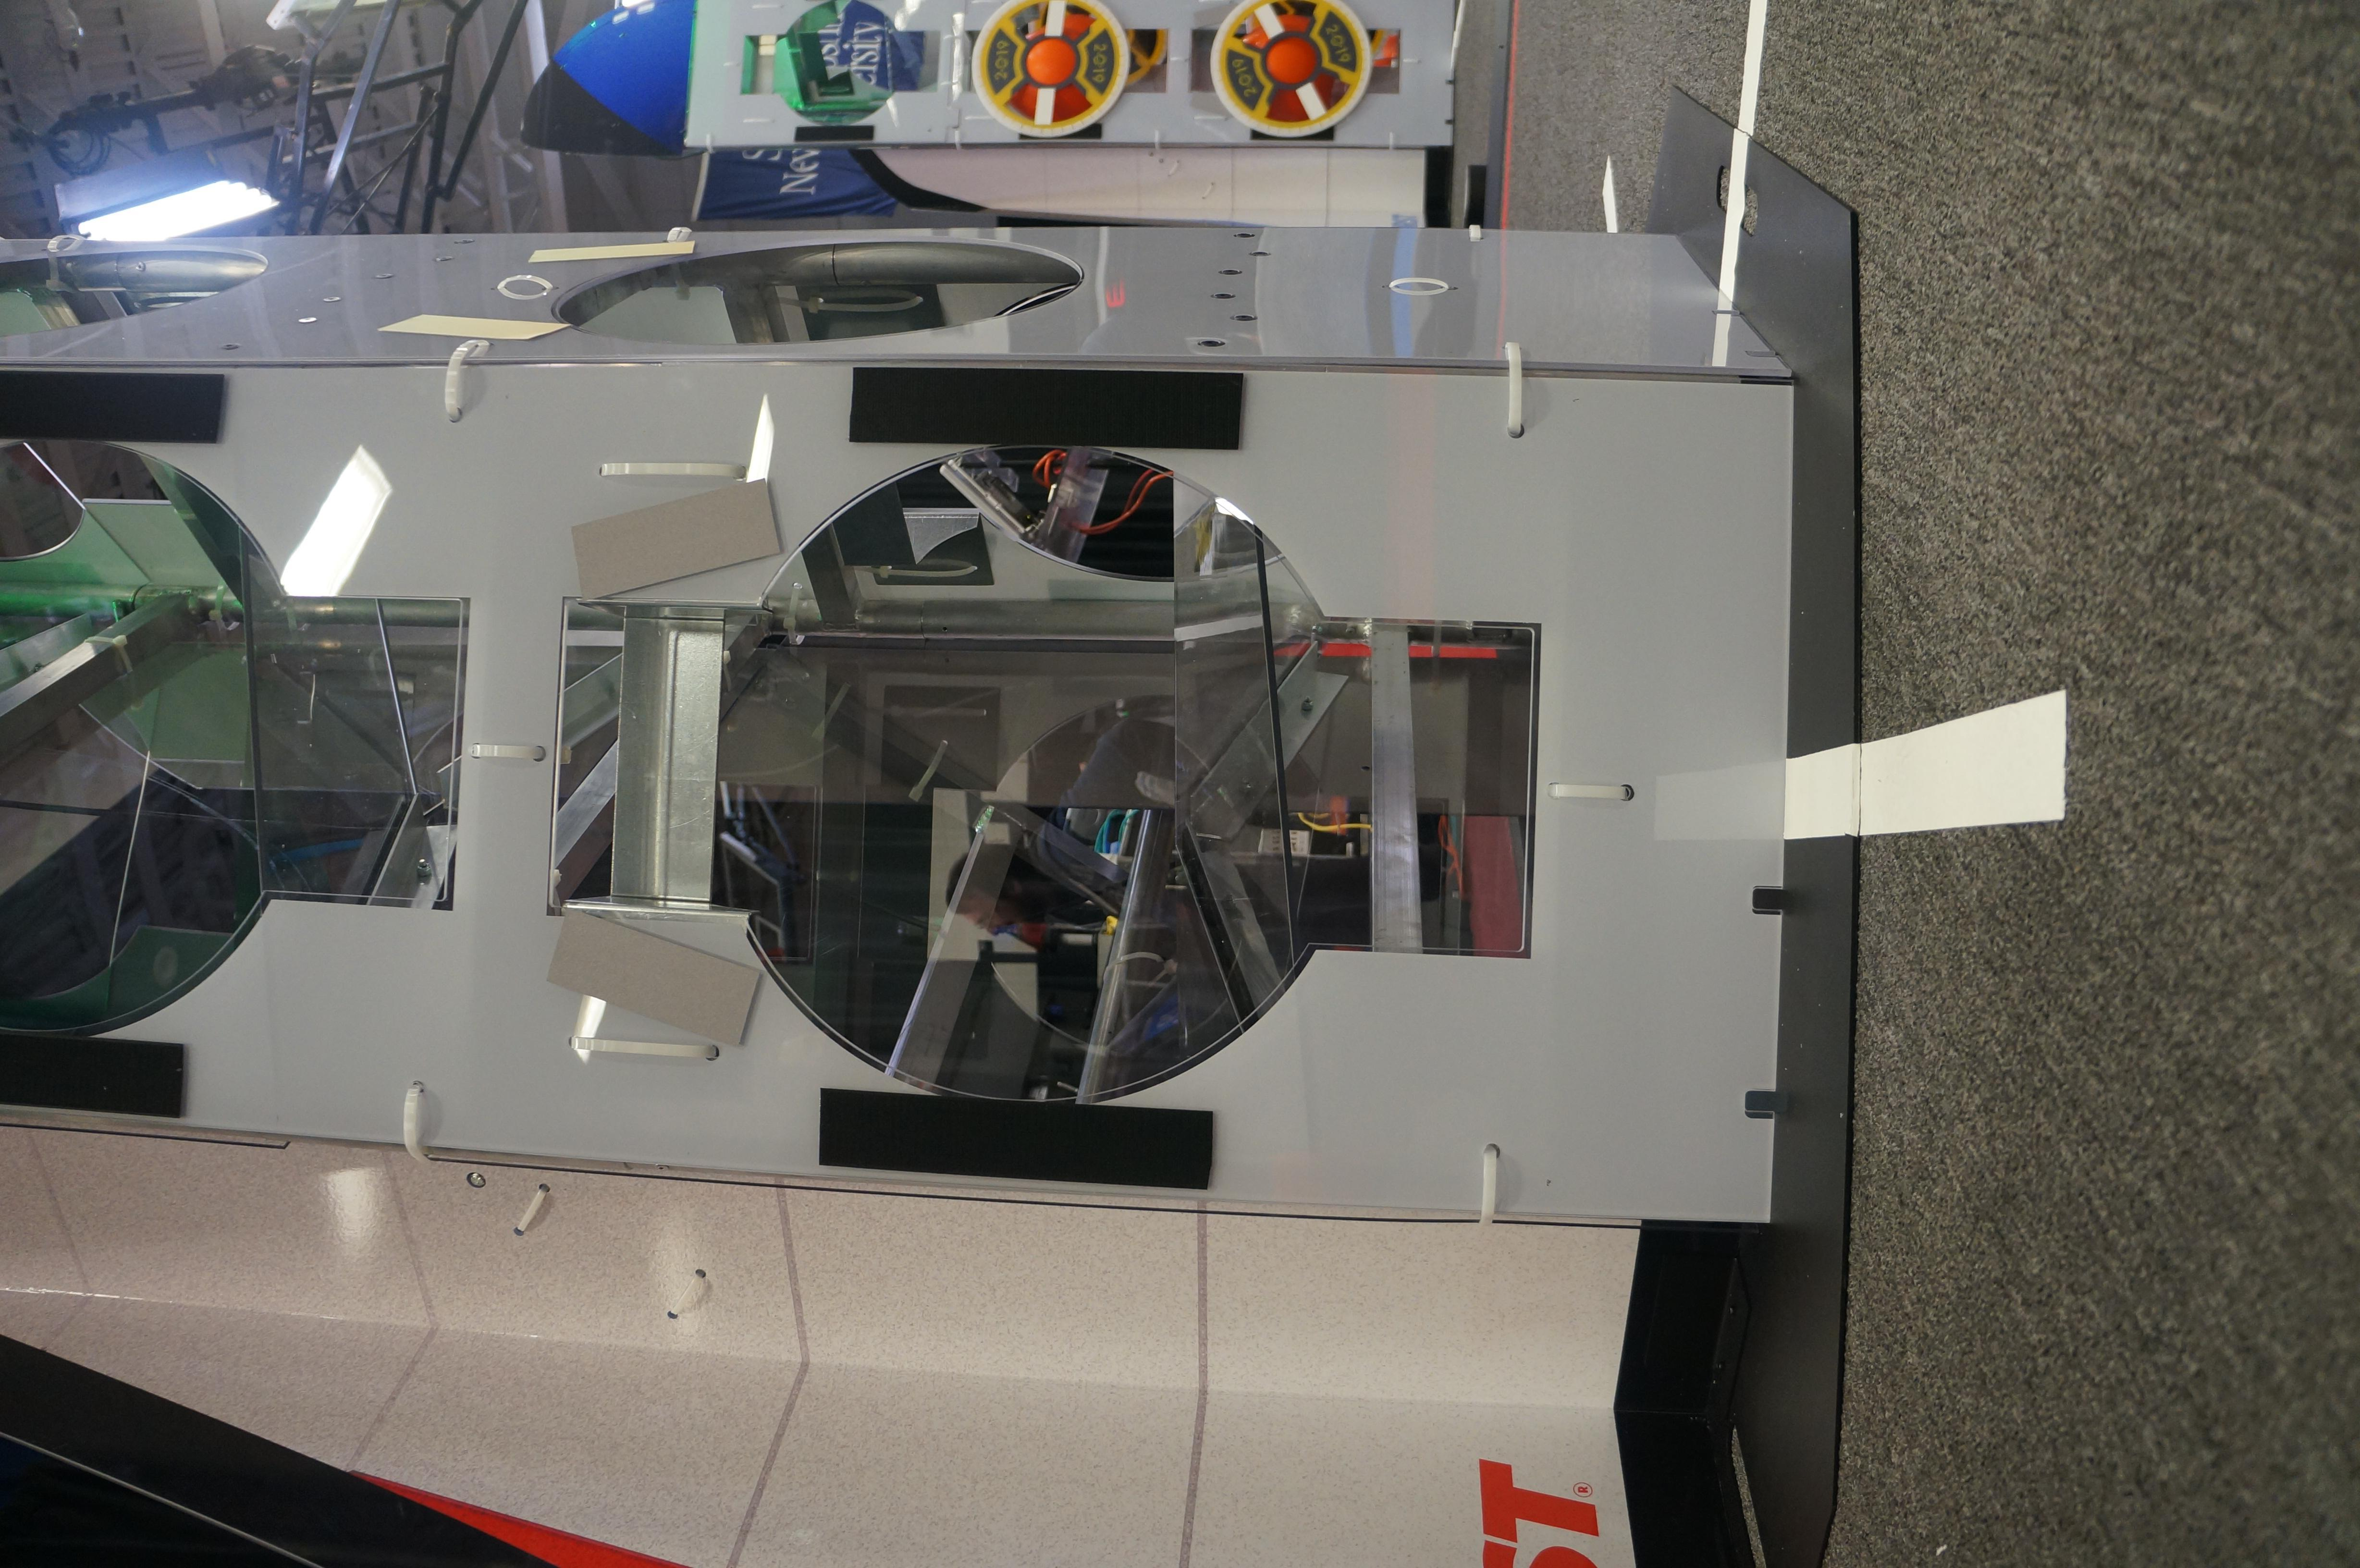Ball: (999, 17, 1097, 115), (1244, 9, 1333, 115)
Hatch: (967, 0, 1132, 138), (1212, 0, 1372, 138)
Tape: (544, 912, 763, 1043), (565, 476, 784, 600), (525, 231, 696, 268), (378, 311, 576, 343)
